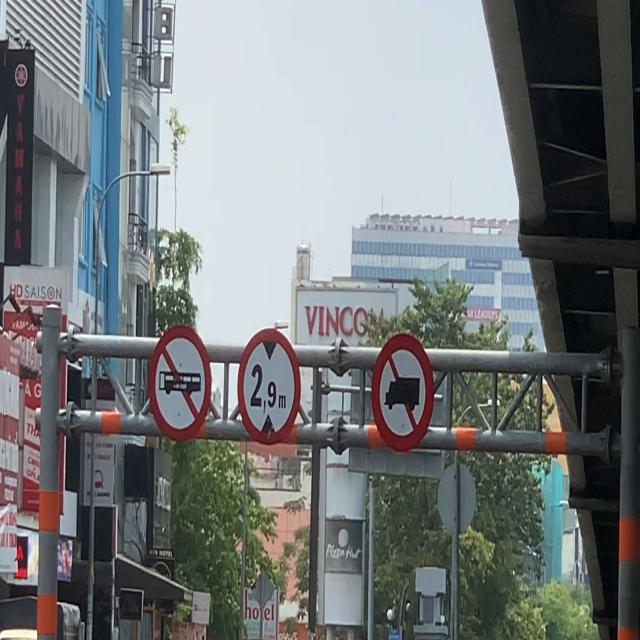Cam con lai: (372, 331, 437, 452), (149, 325, 214, 444)
Chieu cao toi da: (236, 323, 303, 453)
